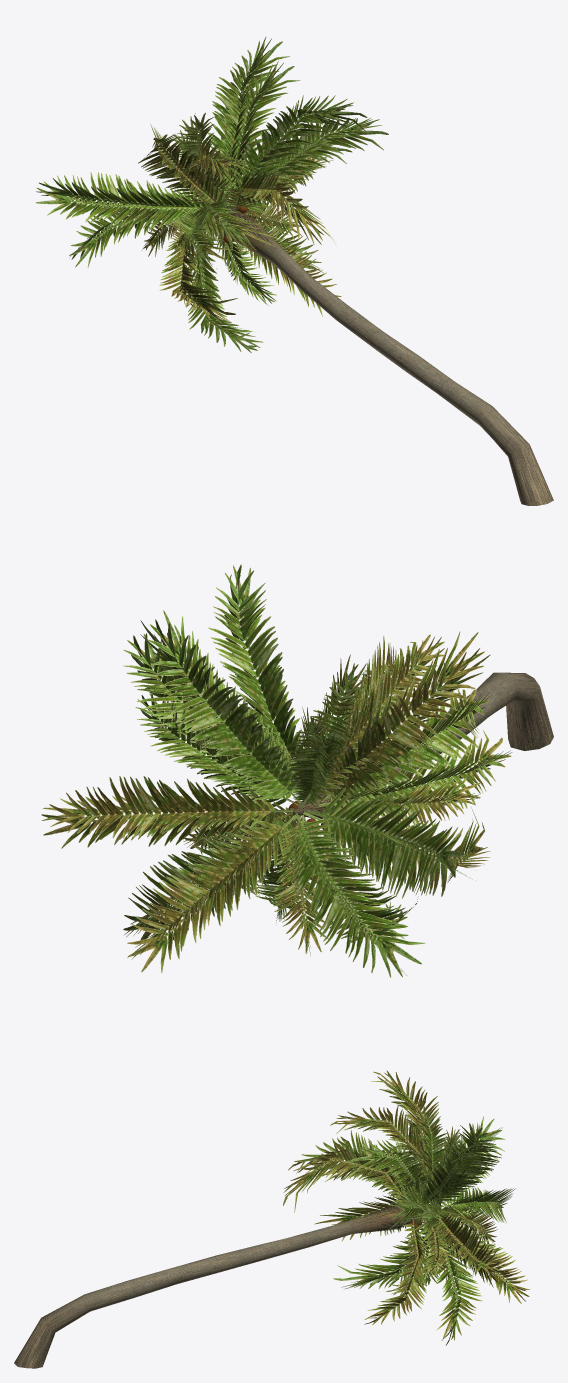
Rendered from coconut_palm4.fbx.
3 renders of one model, top to bottom at view 1: azimuth 30°, elevation 25°; view 2: azimuth 150°, elevation 25°; view 3: azimuth 270°, elevation 25°, orthographic. The views are drawn at different scales.
Parts seen in each view (by area): view 1: coconut_palm4_leaves, coconut_palm4_trunk; view 2: coconut_palm4_leaves, coconut_palm4_trunk; view 3: coconut_palm4_leaves, coconut_palm4_trunk.
Boxes of the visible parts, x1,y1,x2,y2 form: coconut_palm4_leaves: (35, 36, 388, 353); coconut_palm4_trunk: (224, 206, 553, 505); coconut_palm4_leaves: (41, 564, 512, 977); coconut_palm4_trunk: (292, 672, 553, 818); coconut_palm4_leaves: (283, 1070, 530, 1345); coconut_palm4_trunk: (14, 1206, 428, 1368).
Size of the model in its own units: 364 by 313 by 589.
